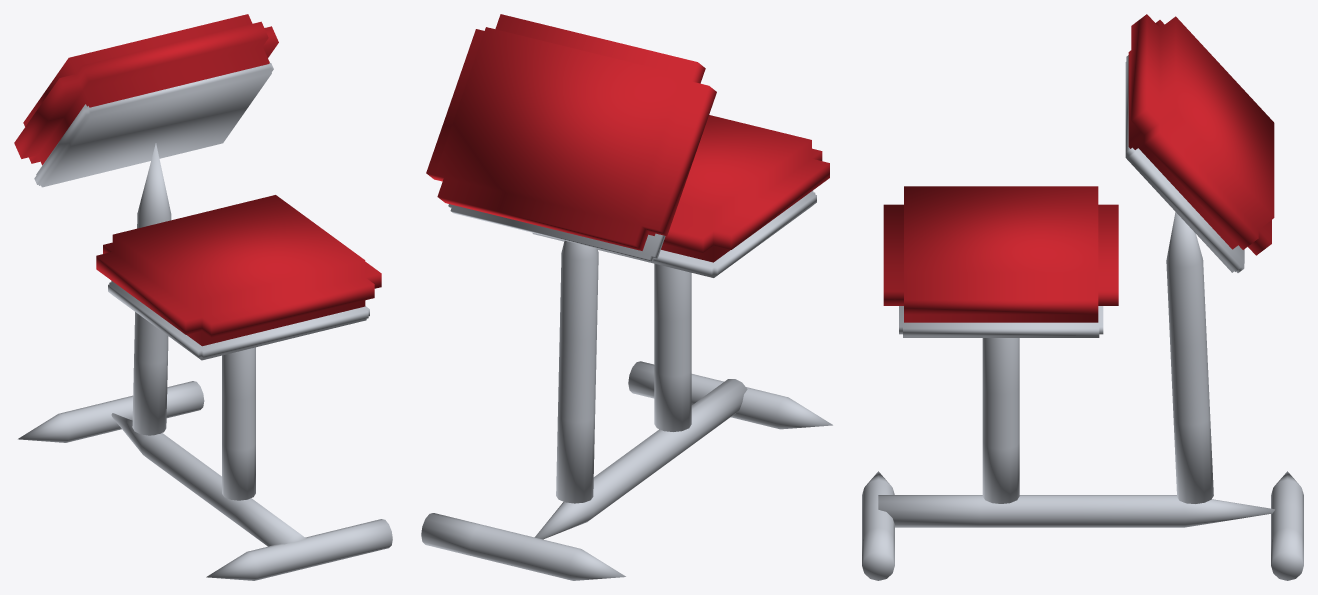
Rendered from ChromeBench.glb.
3 renders of one model, left to right at view 1: azimuth 30°, elevation 25°; view 2: azimuth 150°, elevation 25°; view 3: azimuth 270°, elevation 25°, orthographic. The views are drawn at different scales.
Visible parts, largest first — view 1: ChromeBench; view 2: ChromeBench; view 3: ChromeBench.
Part boxes in pixels (<box>): ChromeBench: <box>14,14,392,580</box>; ChromeBench: <box>421,14,832,580</box>; ChromeBench: <box>862,14,1303,580</box>.
Bounding box in the file's own units: 1.3 × 2.55 × 2.16.
1 material, 1 textured.
